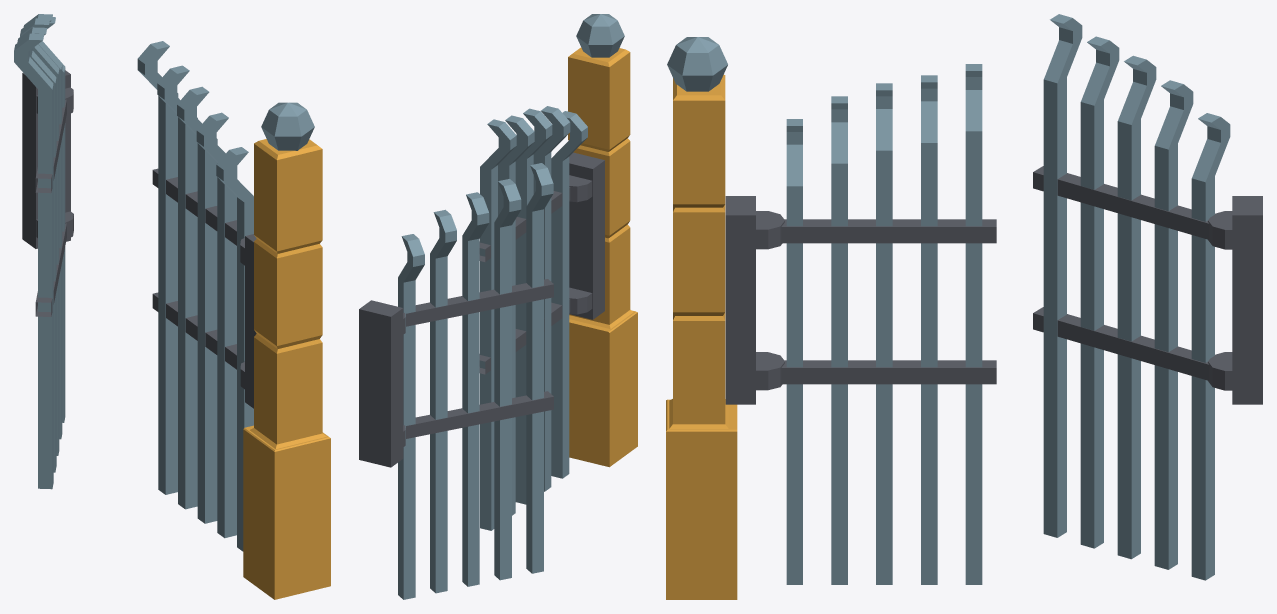
Rendered from metalFenceDoor.fbx.
3 renders of one model, left to right at view 1: azimuth 30°, elevation 25°; view 2: azimuth 150°, elevation 25°; view 3: azimuth 270°, elevation 25°, orthographic. The views are drawn at different scales.
Parts seen in each view (by area): view 1: Cube.015, Cube.014, Cube.001, Cube.017, Cube.016, Sphere.002, Cube.019, Cylinder.002; view 2: Cube.001, Cube.015, Cube.014, Cube.017, Cube.019, Sphere.002, Cube.016, Cylinder.001; view 3: Cube.001, Cube.015, Cube.014, Cube.017, Cube.016, Cube.019, Sphere.002, Cylinder.001, Cylinder.002.
Part boxes in pixels (x1,y1,x2,y2): Cube.015: (137, 41, 253, 551); Cube.014: (243, 139, 330, 599); Cube.001: (14, 14, 65, 489); Cube.017: (22, 70, 256, 408); Cube.016: (152, 168, 236, 369); Sphere.002: (261, 102, 314, 150); Cube.019: (35, 99, 66, 316); Cylinder.002: (36, 87, 73, 238); Cube.001: (398, 163, 553, 599); Cube.015: (480, 106, 587, 530); Cube.014: (568, 47, 637, 467); Cube.017: (359, 152, 604, 467); Cube.019: (406, 279, 553, 438); Sphere.002: (576, 14, 624, 57); Cube.016: (479, 187, 570, 374); Cylinder.001: (569, 175, 592, 314); Cube.001: (1043, 14, 1230, 580); Cube.015: (786, 64, 982, 584); Cube.014: (666, 75, 737, 599); Cube.017: (725, 196, 1262, 404); Cube.016: (781, 219, 996, 384); Cube.019: (1033, 166, 1209, 380); Sphere.002: (667, 37, 727, 91); Cylinder.001: (756, 211, 784, 390); Cylinder.002: (1208, 211, 1232, 390).
Size of the model in its own units: 62.1 by 204 by 201.
